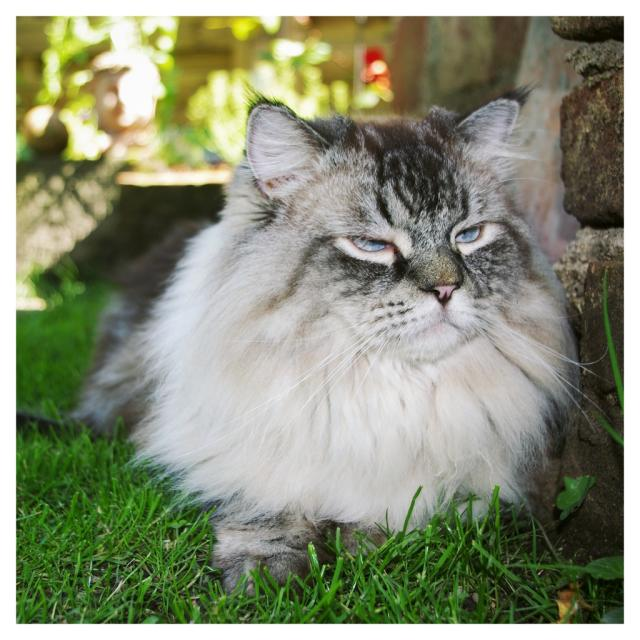Cat: (69, 70, 624, 598)
